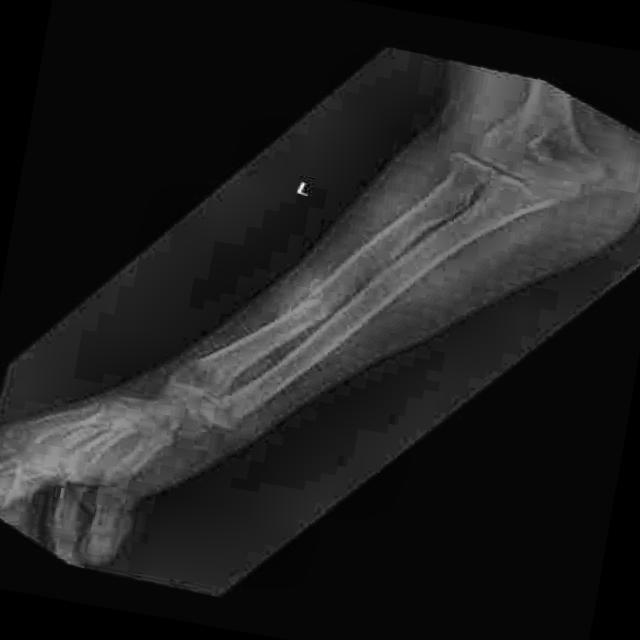forearm fracture: (231, 266, 363, 358)
